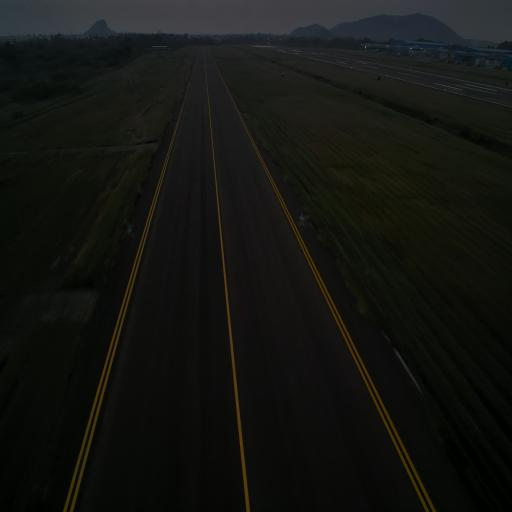on: (300, 210, 306, 222), (127, 222, 133, 232)
